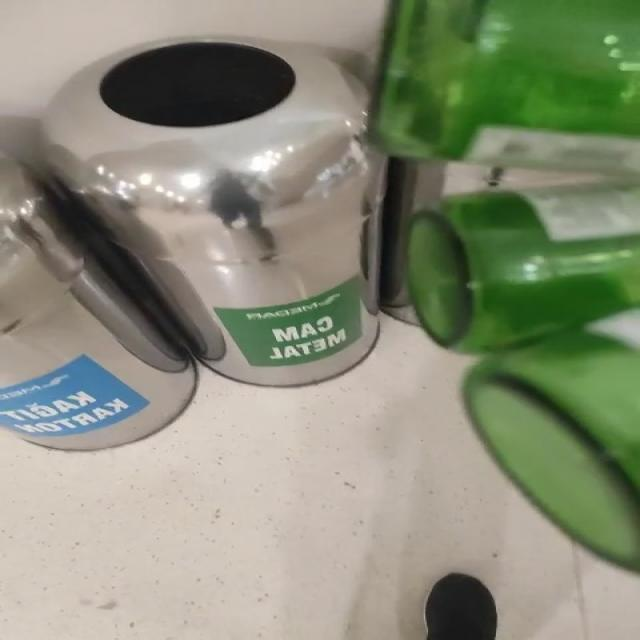glass: (372, 0, 640, 571)
